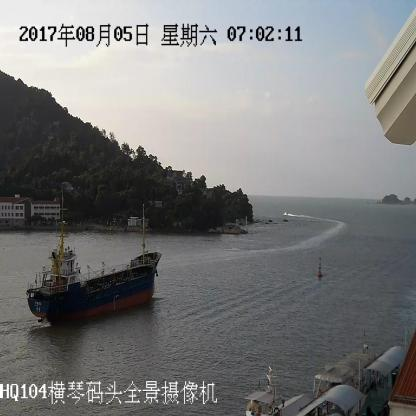Bulk Carrier: (26, 203, 162, 324)
